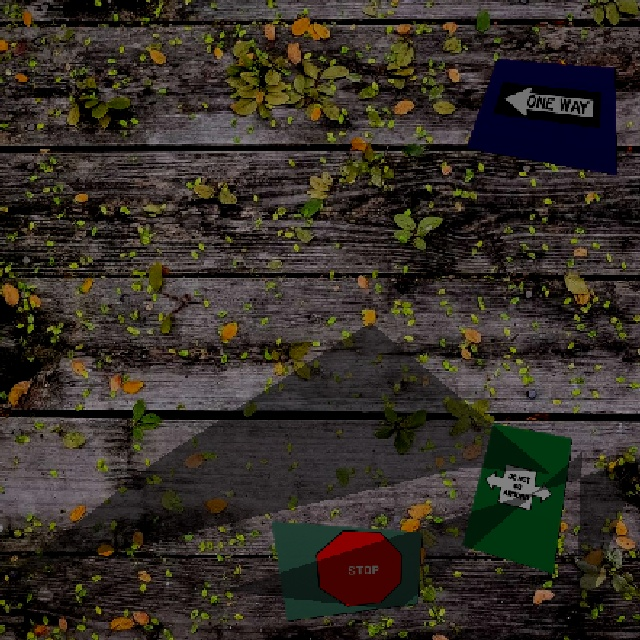DO_NOT_GO_AROUND: (477, 459, 559, 514)
ONE_WAY_ left: (492, 80, 600, 127)
STOP: (312, 519, 407, 611)
